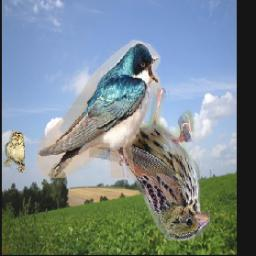Sparrow: (89, 89, 210, 242), (5, 131, 26, 172)
Swallow: (38, 40, 161, 178)
